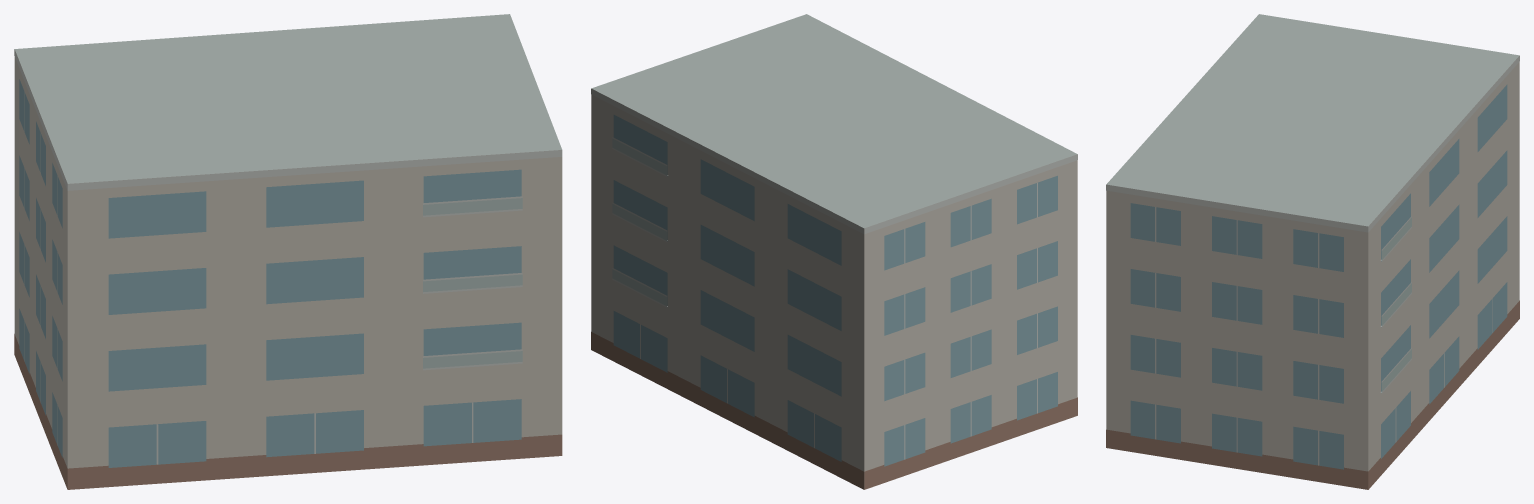
File: survey-upis-32882293.glb
The picture shows the model from 3 angles, left to right: view 1: azimuth 30°, elevation 25°; view 2: azimuth 150°, elevation 25°; view 3: azimuth 270°, elevation 25°; orthographic projection. The views are drawn at different scales.
Visible parts, largest first — view 1: survey-upis-32882293.tmp; view 2: survey-upis-32882293.tmp; view 3: survey-upis-32882293.tmp.
Boxes of the visible parts, x1,y1,x2,y2 form: survey-upis-32882293.tmp: [14, 14, 562, 489]; survey-upis-32882293.tmp: [591, 14, 1077, 489]; survey-upis-32882293.tmp: [1106, 14, 1519, 489].
Bounding box in the file's own units: 18.52 × 10.7 × 15.24.
